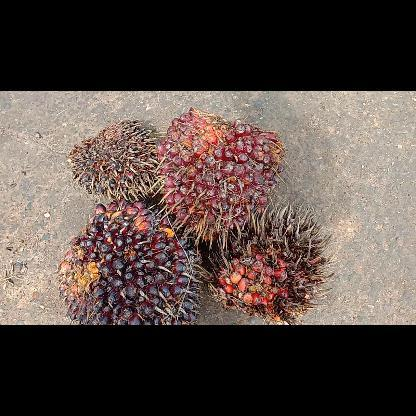Kurang masak: (56, 202, 206, 324)
TBS abnormal: (67, 116, 161, 204)
TBS masak: (157, 105, 283, 243)
Terlalu masak: (203, 200, 336, 324)
